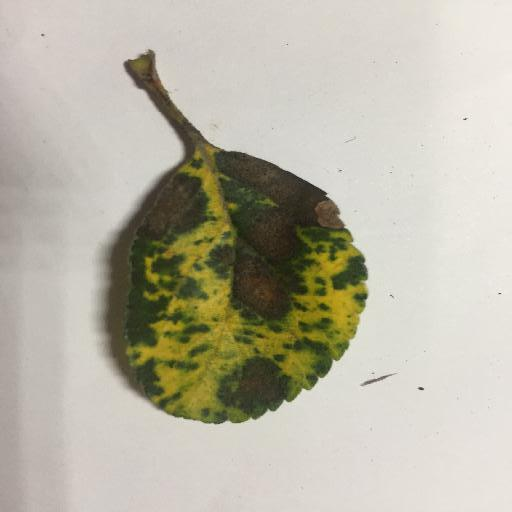Brown_Spot: (226, 163, 317, 210), (239, 258, 289, 308), (251, 217, 306, 253), (150, 187, 187, 238), (235, 366, 291, 394)
